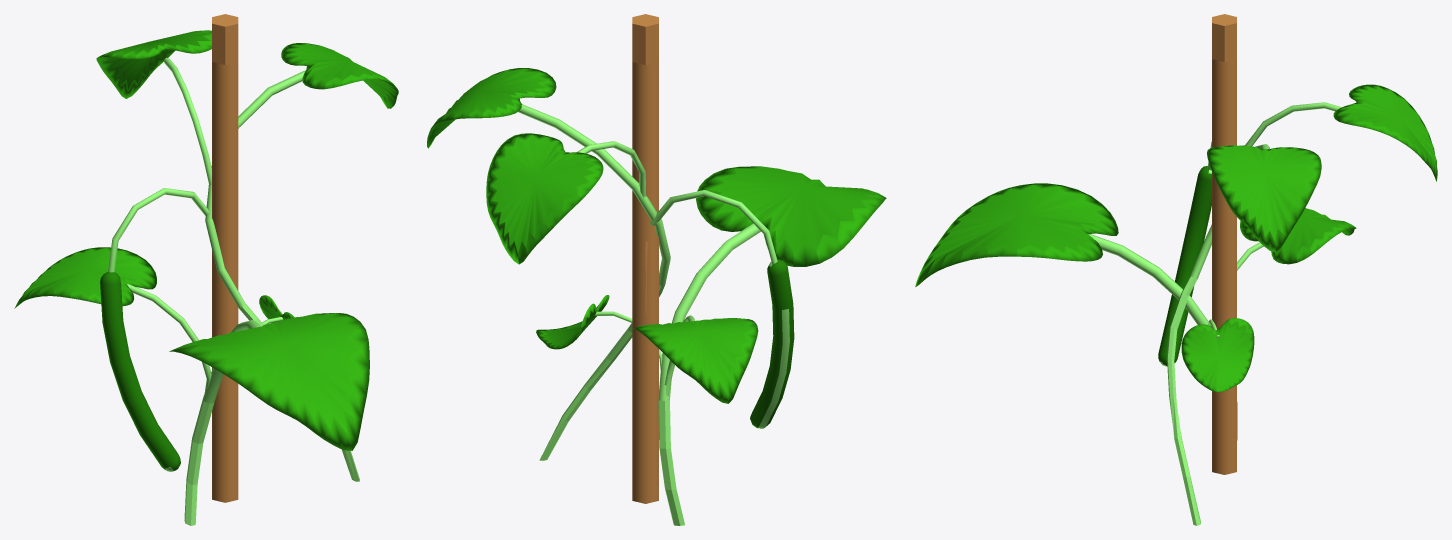
File: 小黃瓜成熟.FBX
3 views of the same model, side by side, from view 1: azimuth 30°, elevation 25°; view 2: azimuth 150°, elevation 25°; view 3: azimuth 270°, elevation 25° (orthographic). The views are drawn at different scales.
Visible parts, largest first — view 1: Cylinder001; view 2: Cylinder001; view 3: Cylinder001.
Part boxes in pixels (box(x1,y1,x2,y2)): Cylinder001: box(14, 14, 398, 525); Cylinder001: box(427, 14, 886, 525); Cylinder001: box(915, 14, 1437, 525).
Bounding box in the file's own units: 58.84 × 82.41 × 83.5.
1 material, 1 textured.
